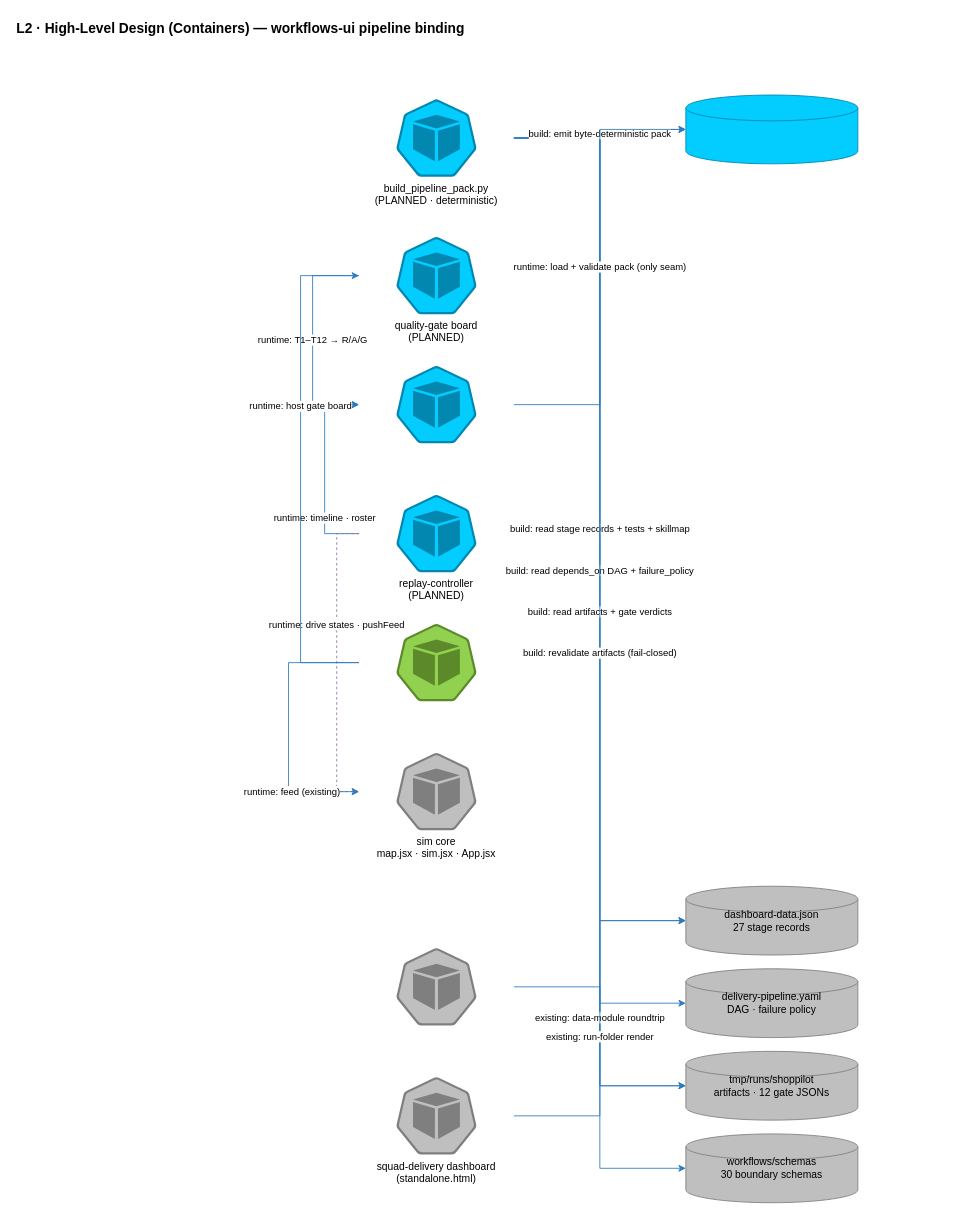
This 975x1218 diagram has some shape labels left out. The shapes that lost their labels are listed below. From the top down, each one's box as (x1, y1, x2, y2) in pixels, then its label:
(685, 94, 858, 164): pipeline-pack.json THE UI contract (PLANNED)
(358, 365, 514, 443): pipeline-adapter (PLANNED)
(358, 623, 514, 701): Sidebar / Feed (remount — PLANNED)
(358, 947, 514, 1026): delivery-review console (per-run HTML)
